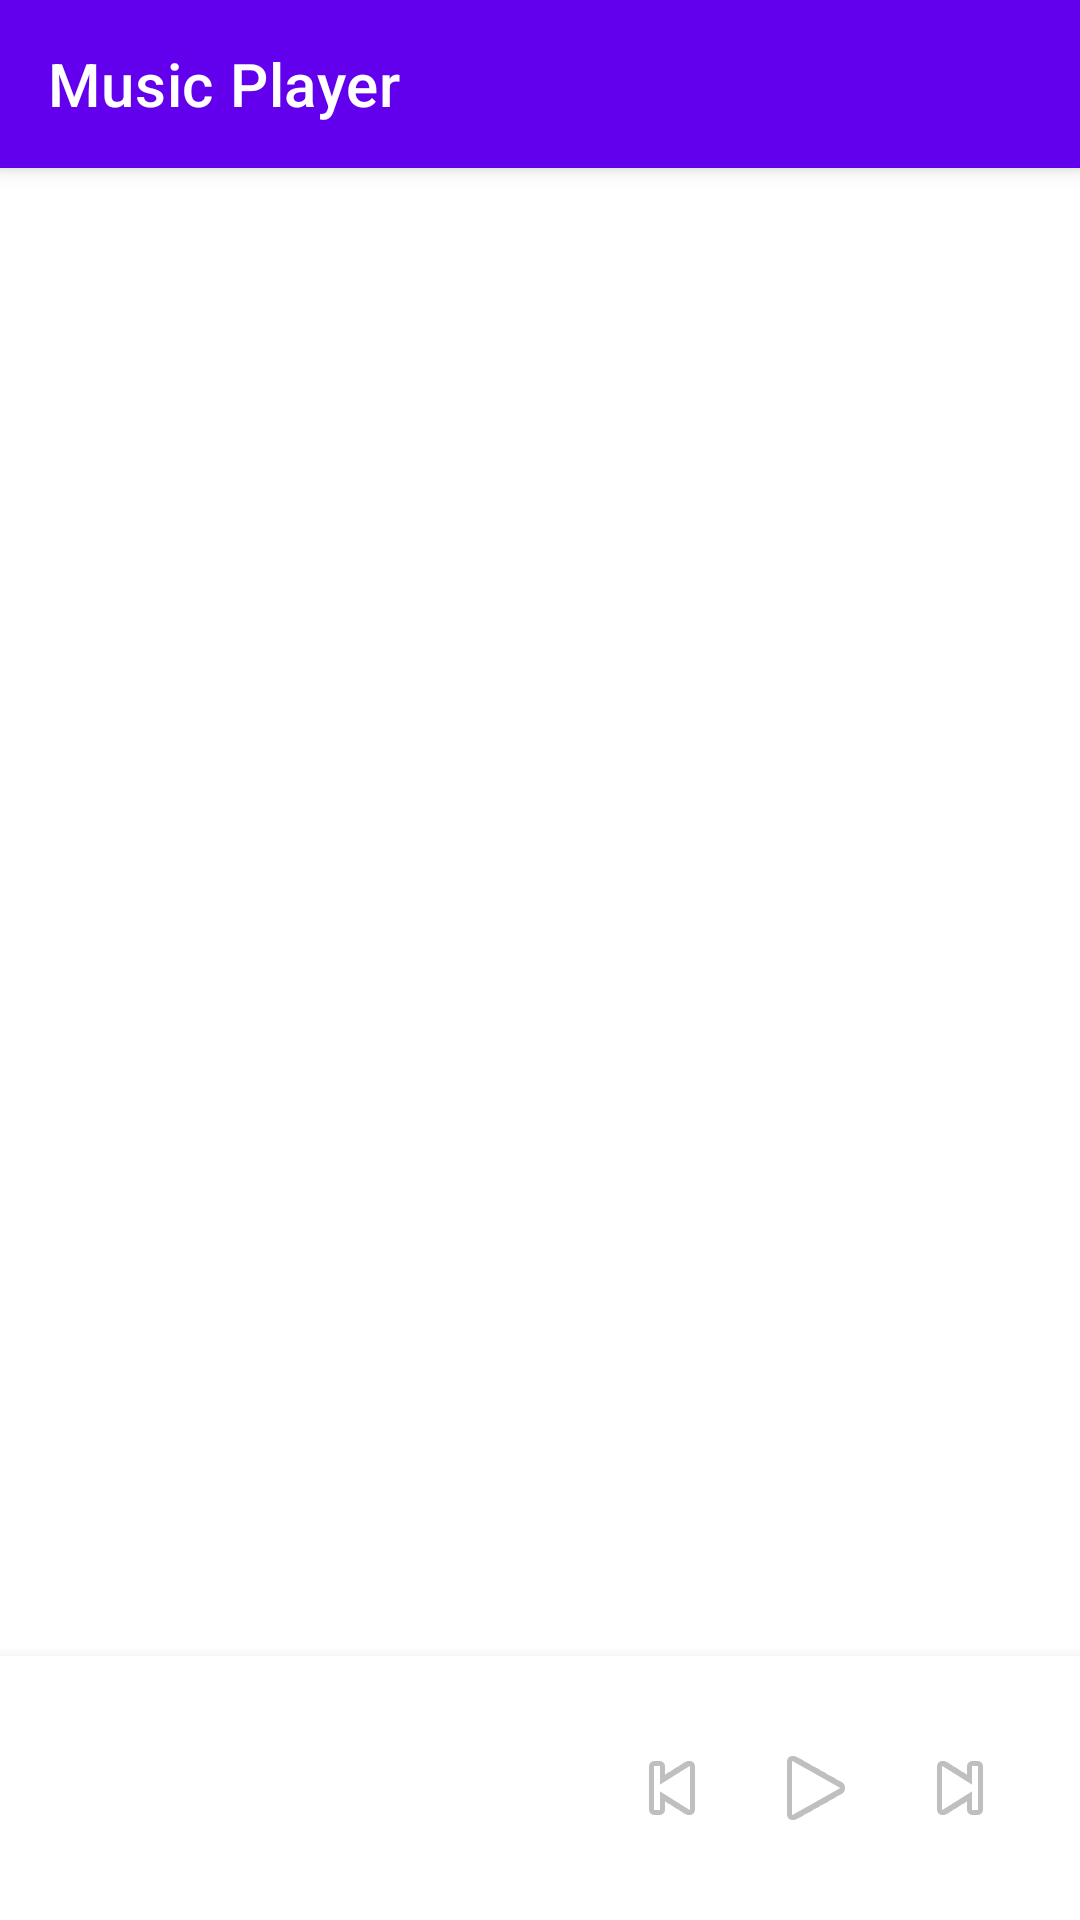

Named icons in this screenshot (1080 × 1920) and their centers, [x,y]:
next: [960,1788]
play: [816,1788]
previous: [672,1788]
